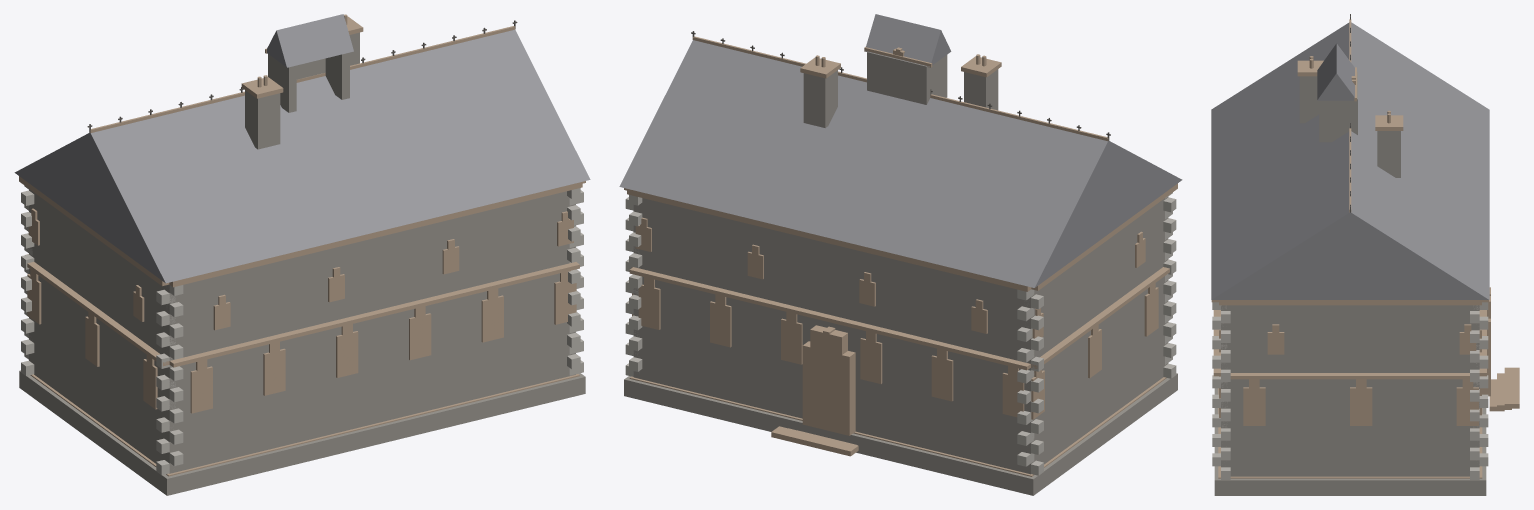
File: cp_precinct.glb
3 renders of one model, left to right at view 1: azimuth 30°, elevation 25°; view 2: azimuth 150°, elevation 25°; view 3: azimuth 270°, elevation 25°, orthographic. The views are drawn at different scales.
Visible parts, largest first — view 1: CPPrecinct; view 2: CPPrecinct; view 3: CPPrecinct.
Part boxes in pixels (x1=…): CPPrecinct: x1=14, y1=14, x2=590, y2=495; CPPrecinct: x1=619, y1=14, x2=1182, y2=495; CPPrecinct: x1=1211, y1=14, x2=1519, y2=495.
Bounding box in the file's own units: 21.1 × 17.59 × 14.3.
